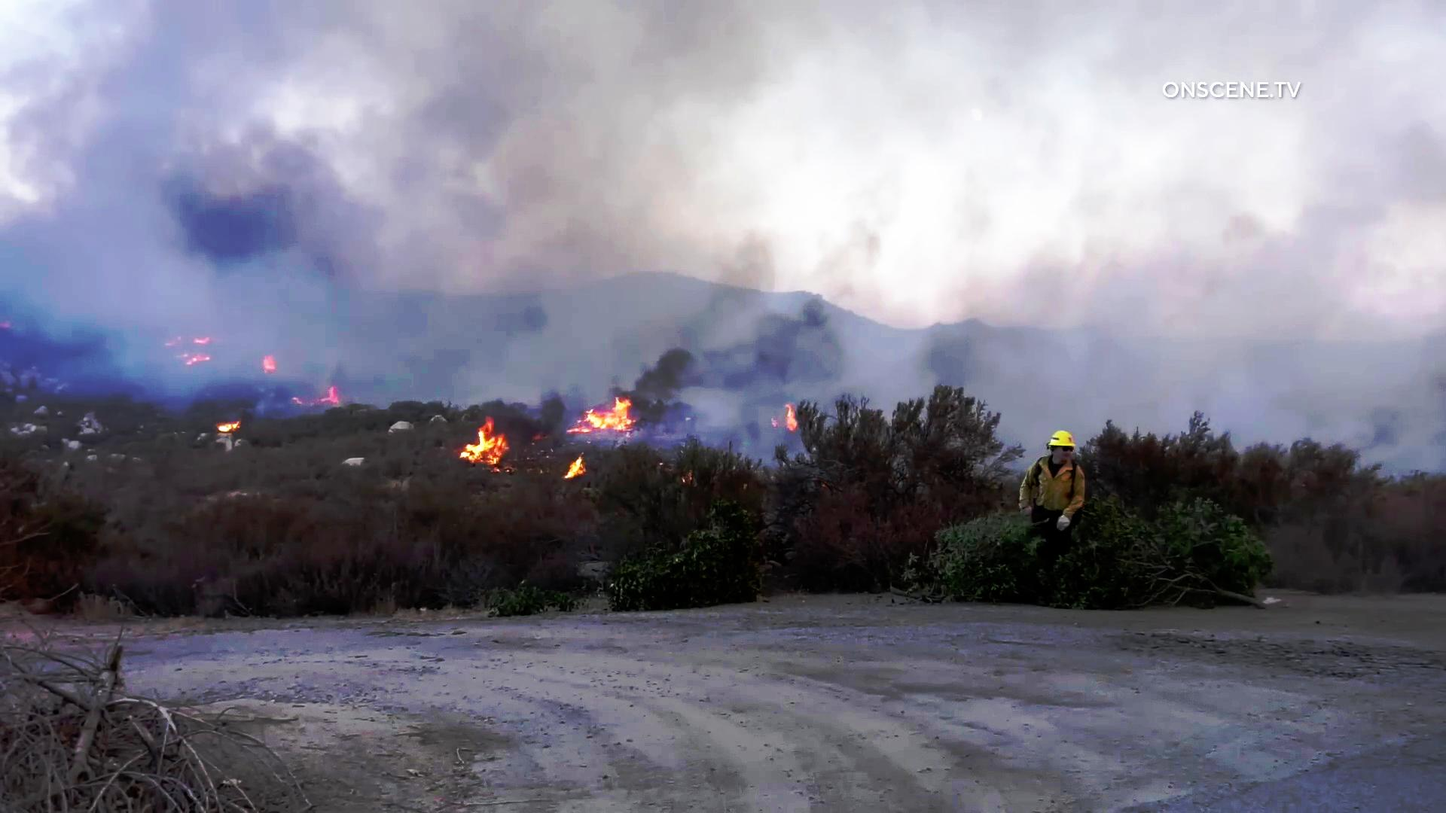fire: (456, 424, 525, 476), (570, 392, 641, 440)
smoke: (624, 303, 712, 441)
